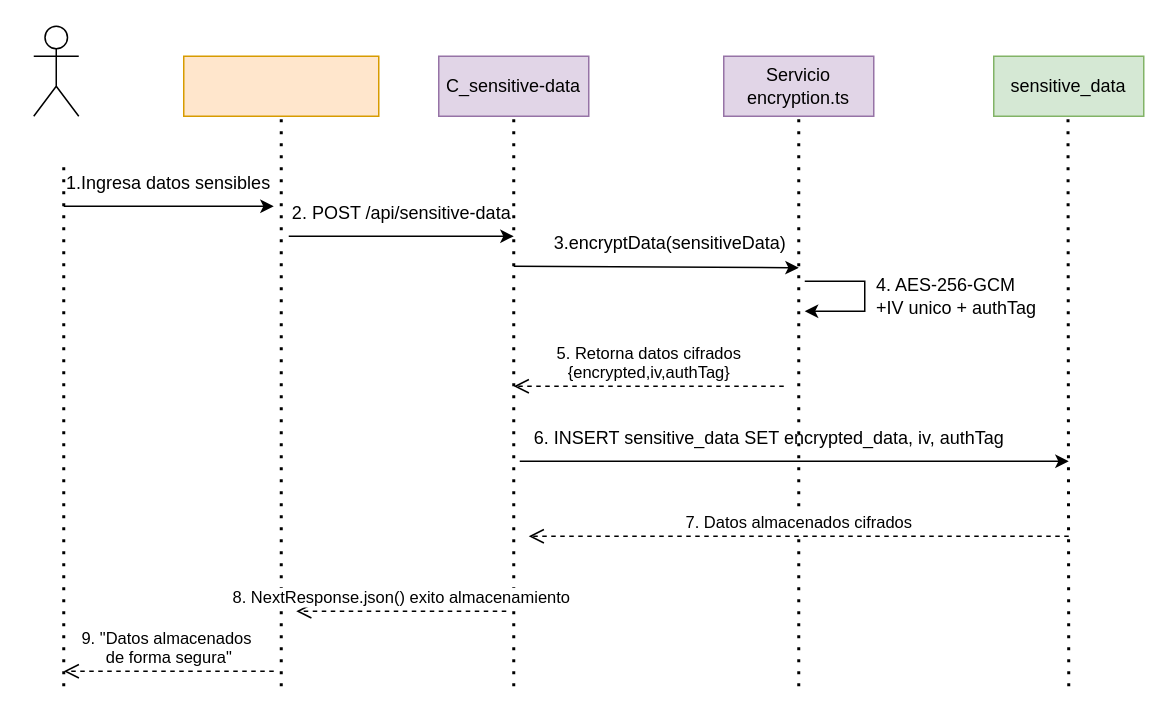
The diagram is 1170 pixels wide and 716 high, and some of its shapes have lost their labels. Each missing label, with the centre of its shape:
"Usuario" goes at (55,70).
"V_sensitive_data_form" goes at (280,85).
